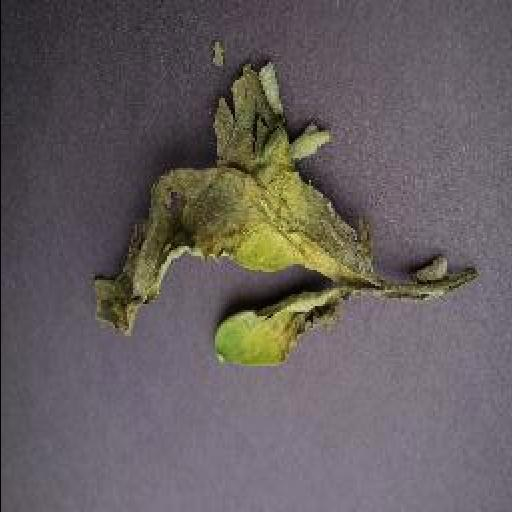disease_tomato: (92, 58, 476, 368)
